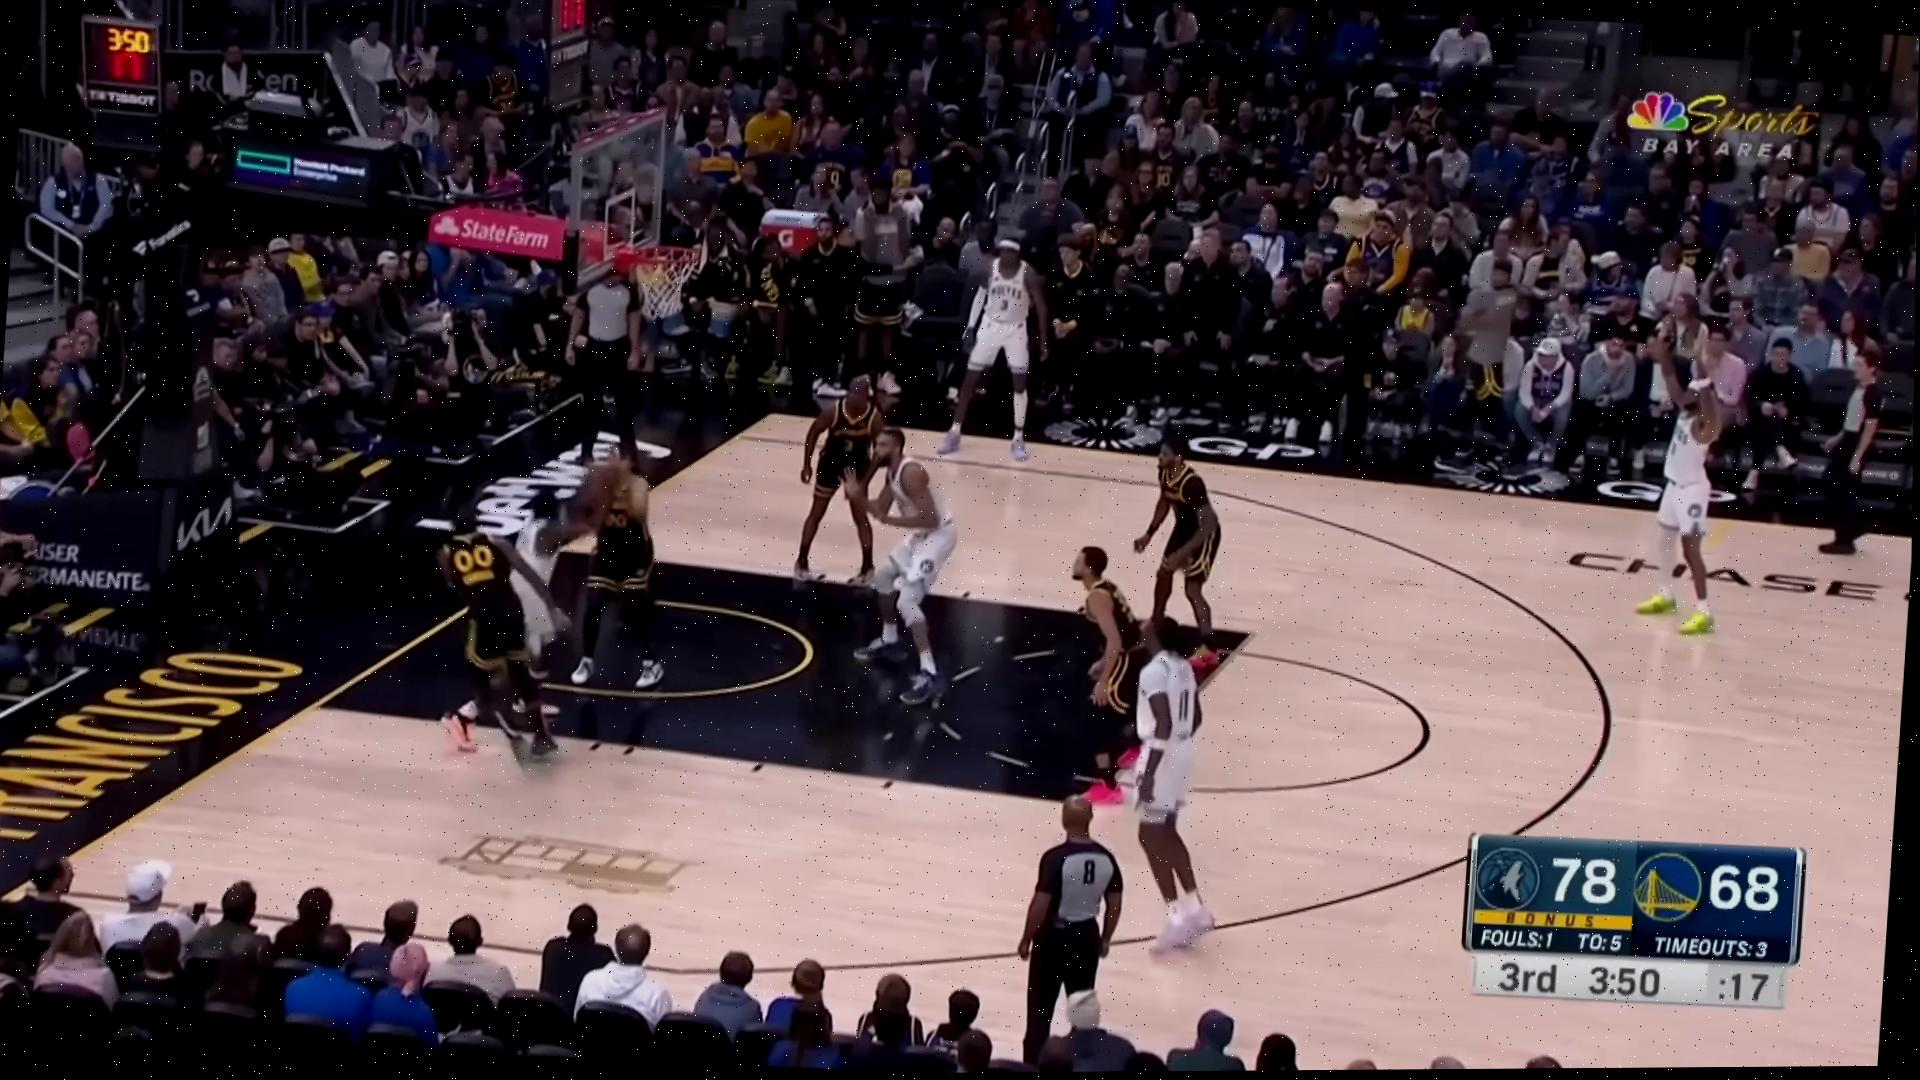foul: (492, 448, 666, 699)
